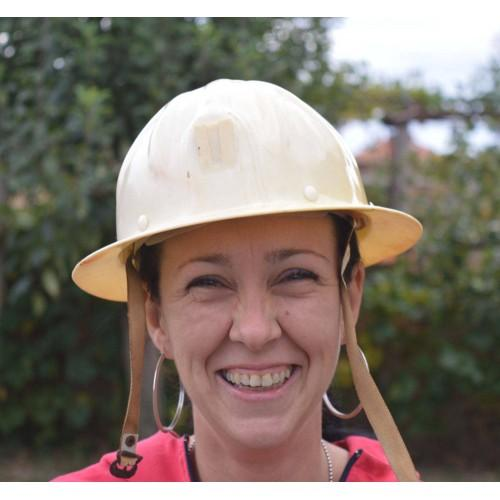helmet: (73, 78, 413, 295)
